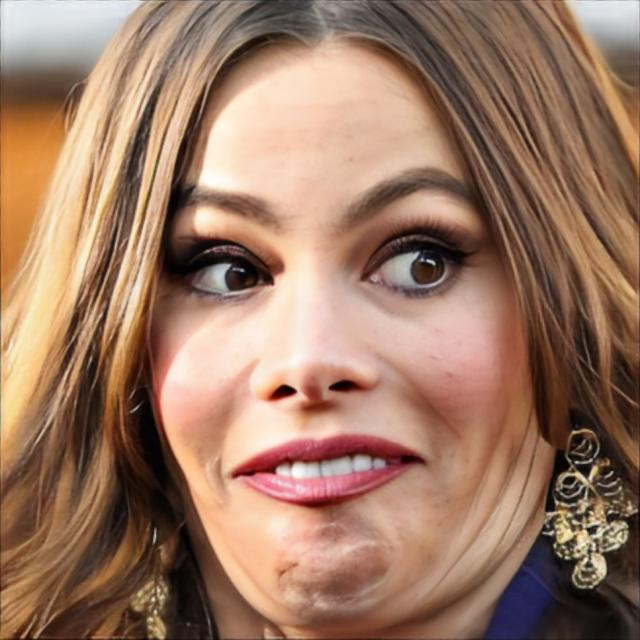surprise: (143, 39, 558, 640)
